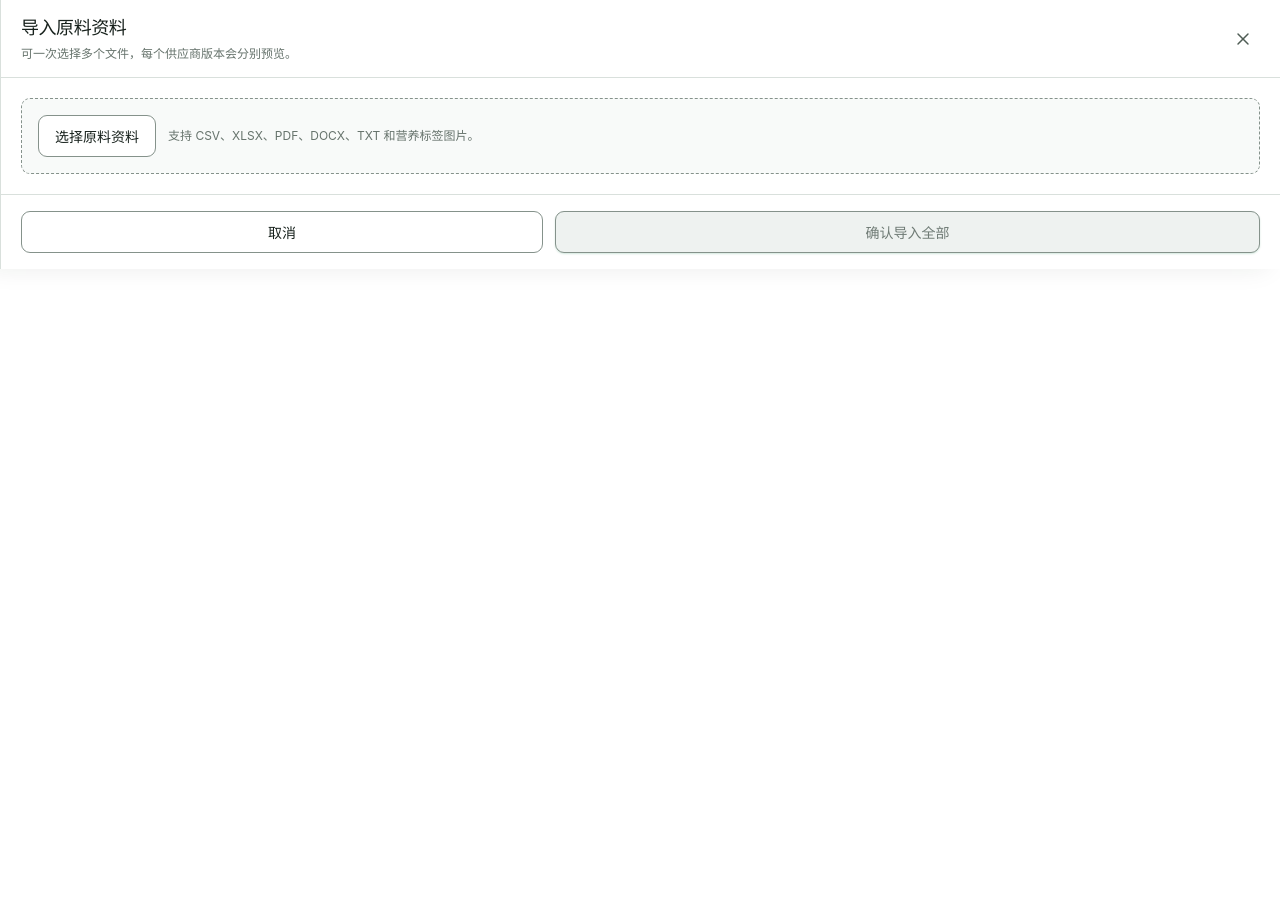
Test: IngredientImportDrawer › previews rows and blocks commit while errors remain
Click the button "选择原料资料" at (97, 136), box [38, 115, 156, 157]
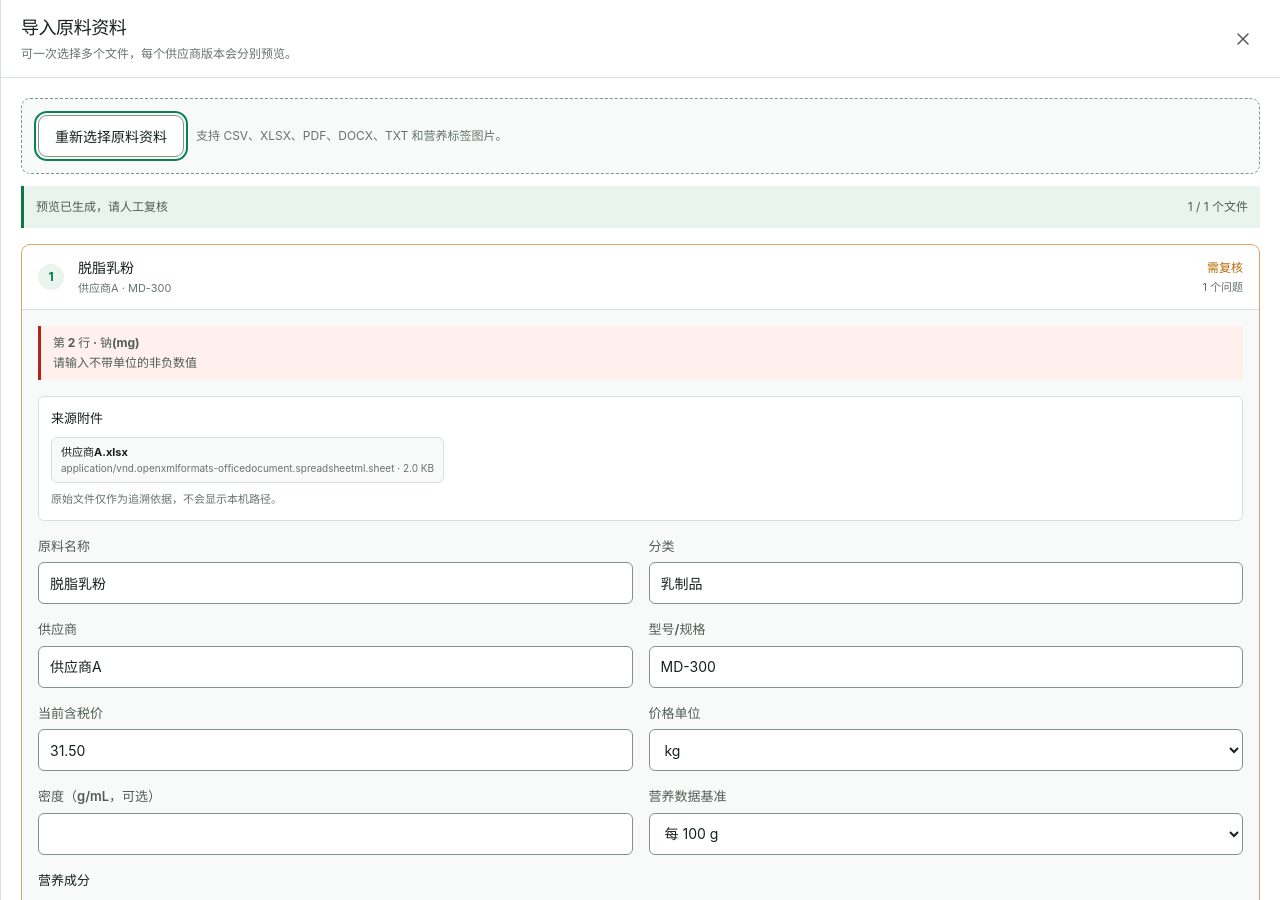
Expected: the text "第 2 行 · 钠(mg)" is shown, [53, 335, 140, 350]
Expected: the text "供应商A.xlsx" is shown, [61, 444, 128, 458]
